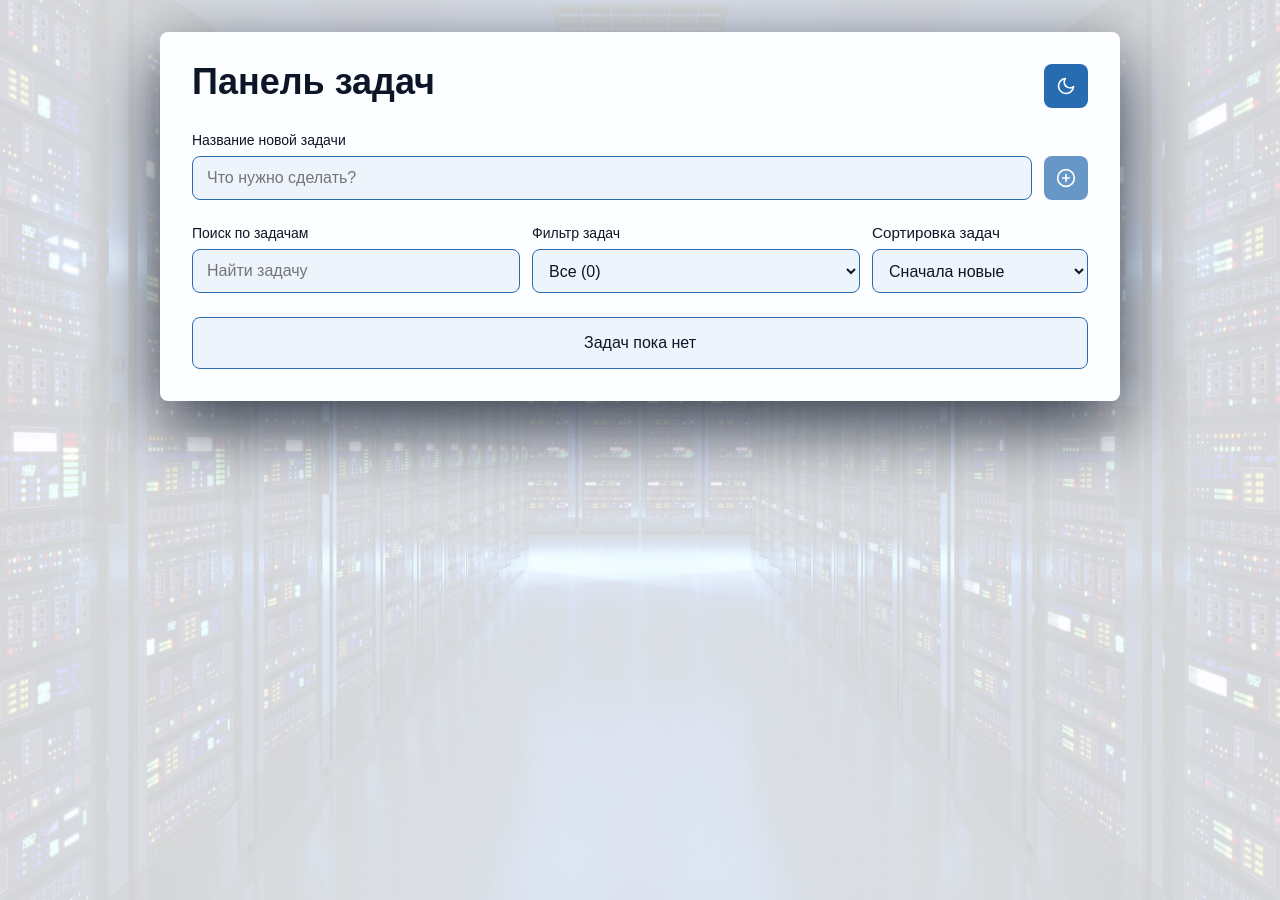
Test: App › показывает ошибку мутации, если создание задачи не удалось
This screenshot has width=1280, height=900.
Expected: the text "Задач пока нет" is shown, [192, 317, 1088, 369]
Type "Новая задача" into the field labelled "Название новой задачи".
click(612, 178); type("Новая задача")  # box [192, 156, 1032, 200]
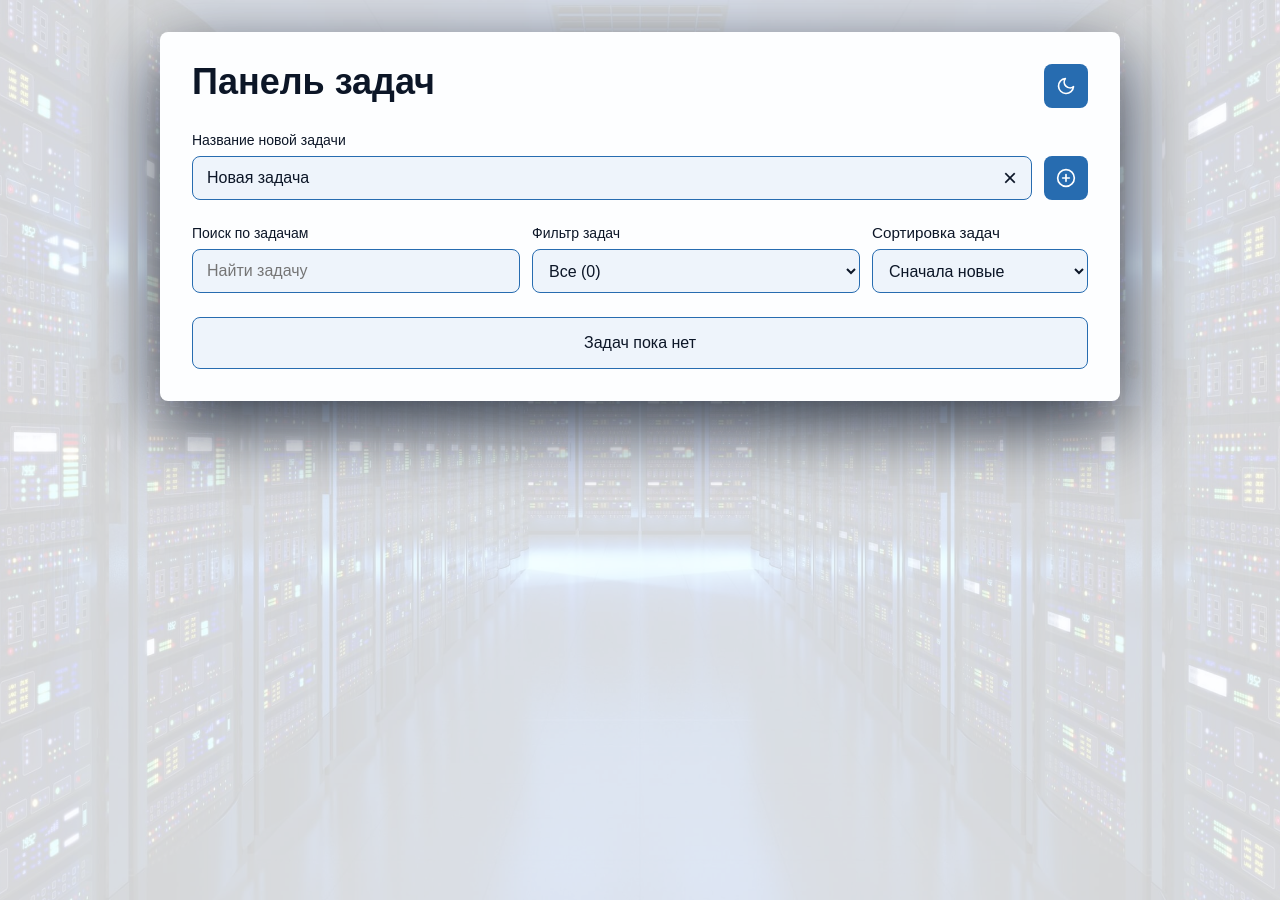
Click the button named "Добавить".
click(1066, 178)  # box [1044, 156, 1088, 200]
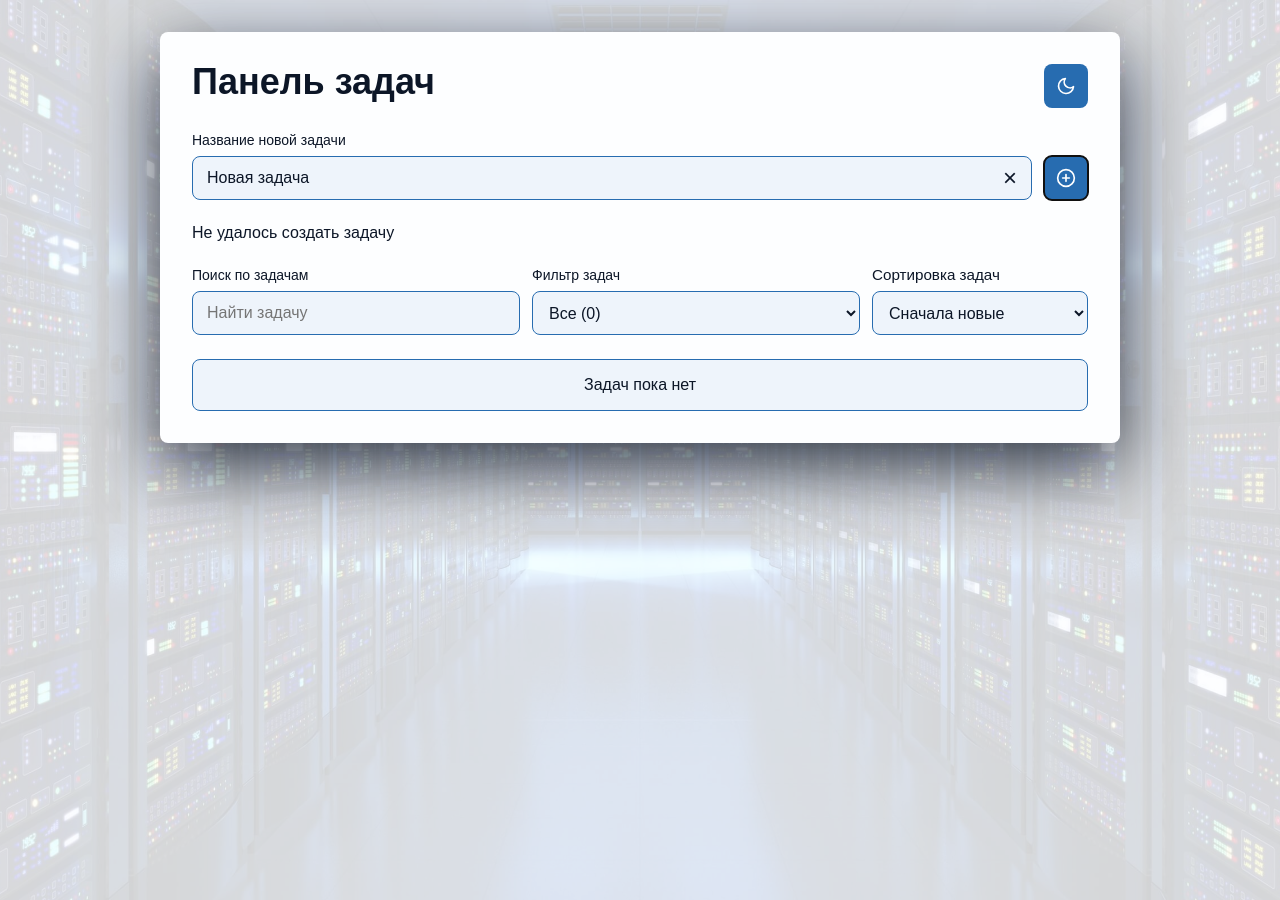
Result: the message reads "Не удалось создать задачу" at [192, 224, 394, 241]
